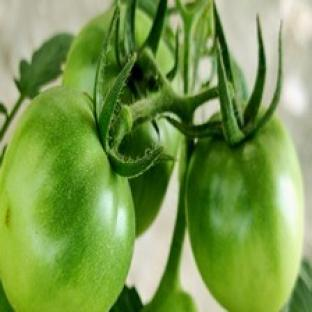Tomato: (0, 87, 135, 311), (187, 117, 303, 311), (63, 10, 112, 96), (143, 290, 197, 311), (0, 282, 13, 311)
